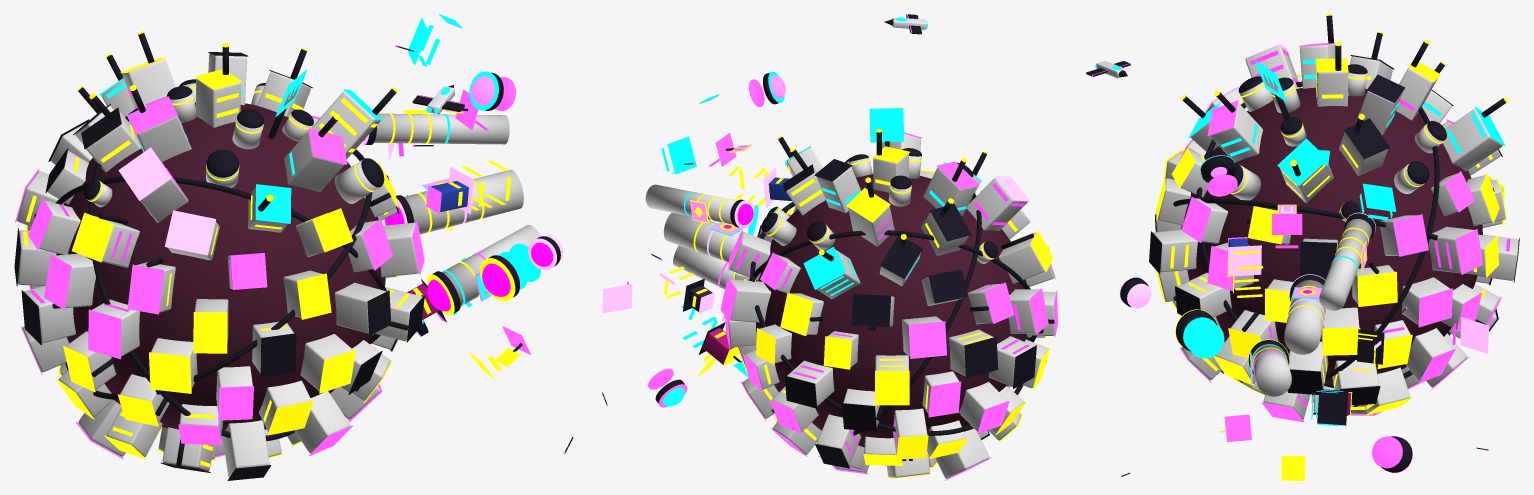
Rendered from Planet_Industrial.fbx.
3 renders of one model, left to right at view 1: azimuth 30°, elevation 25°; view 2: azimuth 150°, elevation 25°; view 3: azimuth 270°, elevation 25°, orthographic. The views are drawn at different scales.
Visible parts, largest first — view 1: COL_Industrial, Industrial_Ind_Ground, Industrial_Dark_Metal, Industrial_Neon_Pink, Industrial_Win_Orange, Industrial_Neon_Violet, Industrial_Neon_Cyan, Industrial_Win_Yellow, Industrial_Neon_Yellow, Industrial_Screen_Magenta, Industrial_Win_Cyan, Industrial_B_Royal (+2 smaller); view 2: COL_Industrial, Industrial_Ind_Ground, Industrial_Dark_Metal, Industrial_Neon_Pink, Industrial_Win_Orange, Industrial_Neon_Cyan, Industrial_Neon_Violet, Industrial_Win_Yellow, Industrial_Neon_Yellow, Industrial_Win_Pink, Industrial_Win_Cyan, Industrial_Screen_Violet (+1 smaller); view 3: COL_Industrial, Industrial_Ind_Ground, Industrial_Dark_Metal, Industrial_Neon_Pink, Industrial_Win_Orange, Industrial_Neon_Cyan, Industrial_Neon_Violet, Industrial_Win_Yellow, Industrial_Neon_Yellow, Industrial_Win_Cyan, Industrial_Win_Pink, Industrial_Screen_Violet (+1 smaller).
Part boxes in pixels (left/top/right/bottom): COL_Industrial: left=17, top=53, right=541, bottom=477; Industrial_Ind_Ground: left=56, top=102, right=385, bottom=430; Industrial_Dark_Metal: left=14, top=33, right=573, bottom=480; Industrial_Neon_Pink: left=15, top=45, right=565, bottom=459; Industrial_Win_Orange: left=25, top=31, right=416, bottom=460; Industrial_Neon_Violet: left=118, top=134, right=563, bottom=270; Industrial_Neon_Cyan: left=99, top=14, right=540, bottom=306; Industrial_Win_Yellow: left=23, top=93, right=510, bottom=467; Industrial_Neon_Yellow: left=120, top=57, right=520, bottom=379; Industrial_Screen_Magenta: left=363, top=23, right=553, bottom=311; Industrial_Win_Cyan: left=106, top=25, right=527, bottom=315; Industrial_B_Royal: left=431, top=181, right=468, bottom=211; COL_Industrial: left=645, top=133, right=1055, bottom=478; Industrial_Ind_Ground: left=756, top=174, right=1027, bottom=447; Industrial_Dark_Metal: left=602, top=14, right=1054, bottom=468; Industrial_Neon_Pink: left=606, top=14, right=1057, bottom=480; Industrial_Win_Orange: left=733, top=107, right=1053, bottom=478; Industrial_Neon_Cyan: left=667, top=21, right=982, bottom=377; Industrial_Neon_Violet: left=602, top=167, right=1031, bottom=313; Industrial_Win_Yellow: left=664, top=151, right=1017, bottom=440; Industrial_Neon_Yellow: left=690, top=144, right=910, bottom=376; Industrial_Win_Pink: left=627, top=158, right=1029, bottom=456; Industrial_Win_Cyan: left=661, top=148, right=966, bottom=347; Industrial_Screen_Violet: left=690, top=75, right=785, bottom=235; COL_Industrial: left=1153, top=43, right=1518, bottom=419; Industrial_Ind_Ground: left=1181, top=87, right=1482, bottom=382; Industrial_Dark_Metal: left=1086, top=15, right=1519, bottom=476; Industrial_Neon_Pink: left=1092, top=42, right=1501, bottom=477; Industrial_Win_Orange: left=1155, top=14, right=1508, bottom=415; Industrial_Neon_Cyan: left=1095, top=61, right=1505, bottom=406; Industrial_Neon_Violet: left=1119, top=44, right=1489, bottom=353; Industrial_Win_Yellow: left=1170, top=70, right=1486, bottom=476; Industrial_Neon_Yellow: left=1175, top=58, right=1440, bottom=480; Industrial_Win_Cyan: left=1183, top=59, right=1485, bottom=426; Industrial_Win_Pink: left=1250, top=50, right=1510, bottom=407; Industrial_Screen_Violet: left=1210, top=167, right=1367, bottom=432.
Bounding box in the file's own units: 83.93 × 72.52 × 74.73.
